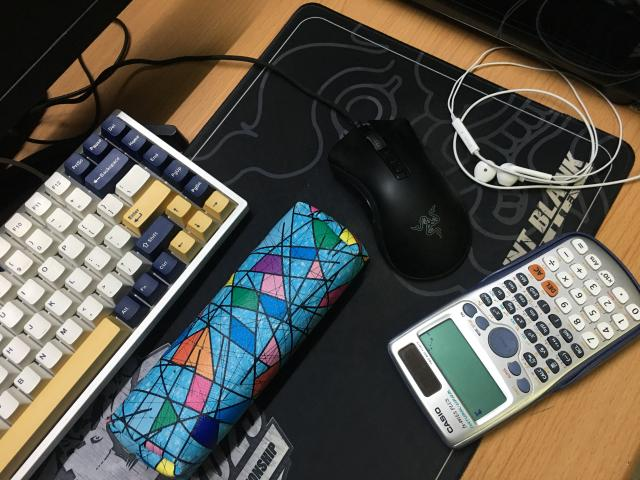Mouse: (329, 119, 471, 279)
wire: (448, 50, 640, 190)
